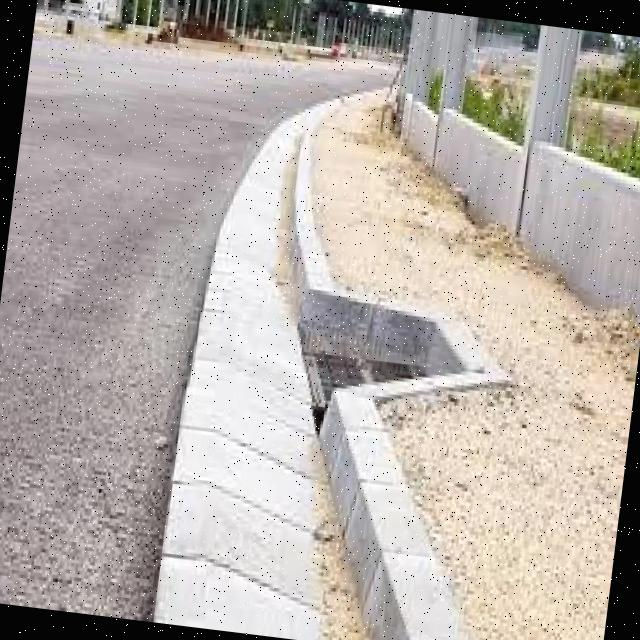curb: (176, 239, 415, 519), (141, 460, 471, 640), (239, 94, 339, 249)
